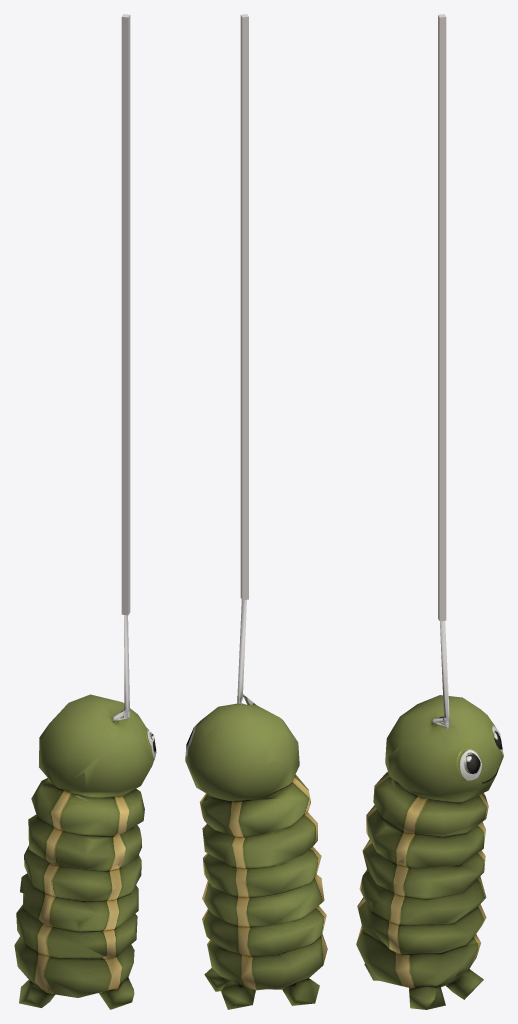
File: toad-caterpillar.glb
3 renders of one model, left to right at view 1: azimuth 30°, elevation 25°; view 2: azimuth 150°, elevation 25°; view 3: azimuth 330°, elevation 25°, orthographic. The views are drawn at different scales.
Visible parts, largest first — view 1: lo; view 2: lo; view 3: lo.
Boxes of the visible parts, x1,y1,x2,y2 form: lo: [14, 14, 156, 1009]; lo: [185, 14, 327, 1009]; lo: [356, 14, 503, 1009].
Bounding box in the file's own units: 0.0132 × 0.0999 × 0.0116.
1 material, 1 textured.
